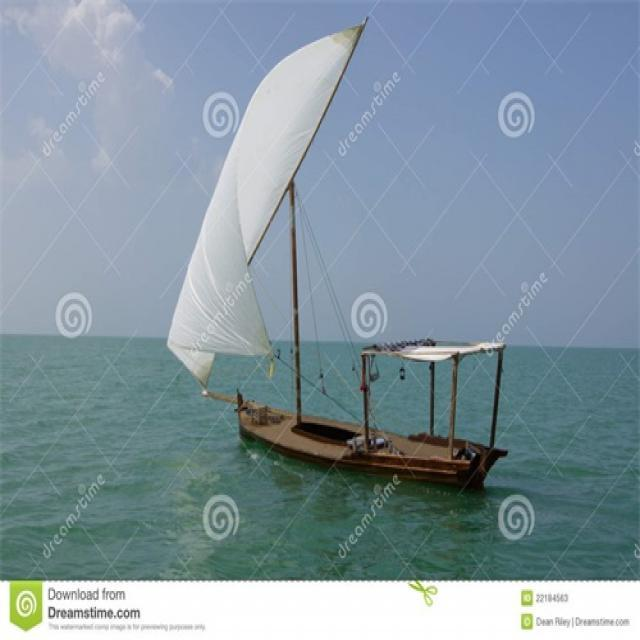Ship: (152, 14, 542, 507)
